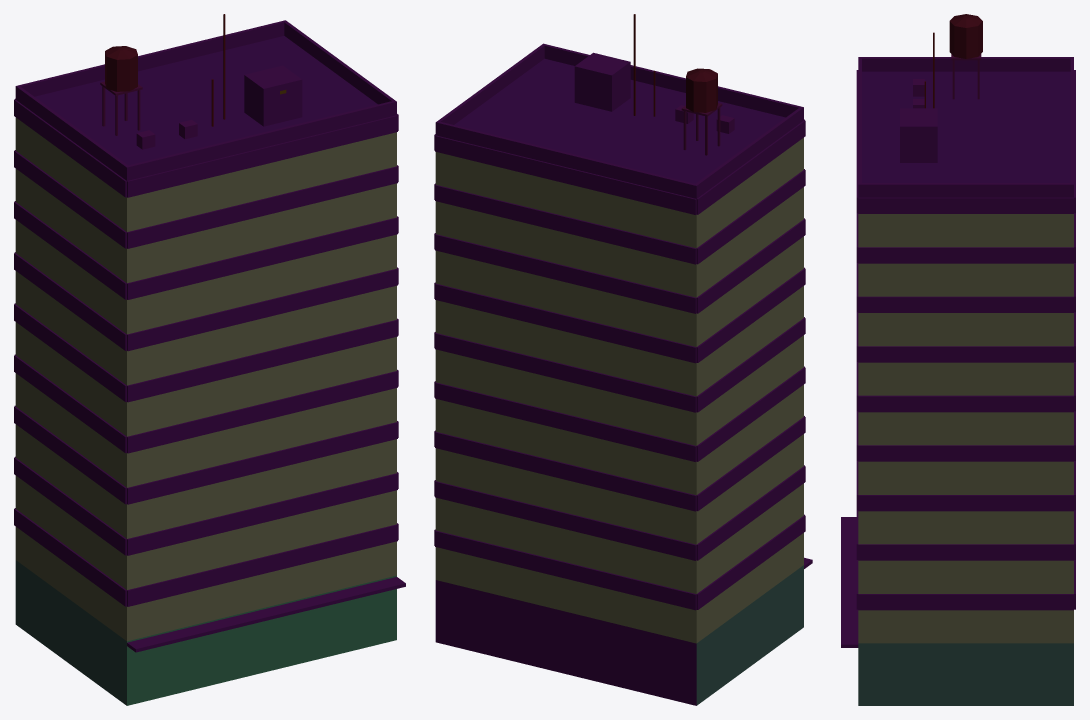
File: commercial_b.lod1.glb
The picture shows the model from 3 angles, left to right: view 1: azimuth 30°, elevation 25°; view 2: azimuth 150°, elevation 25°; view 3: azimuth 270°, elevation 25°; orthographic projection. The views are drawn at different scales.
Parts seen in each view (by area): view 1: commercial_b.lod1; view 2: commercial_b.lod1; view 3: commercial_b.lod1.
Boxes of the visible parts, bbox=[...] form: commercial_b.lod1: bbox=[14, 14, 405, 705]; commercial_b.lod1: bbox=[434, 14, 812, 705]; commercial_b.lod1: bbox=[841, 14, 1075, 705].
Bounding box in the file's own units: 21.24 × 46.79 × 16.32.
